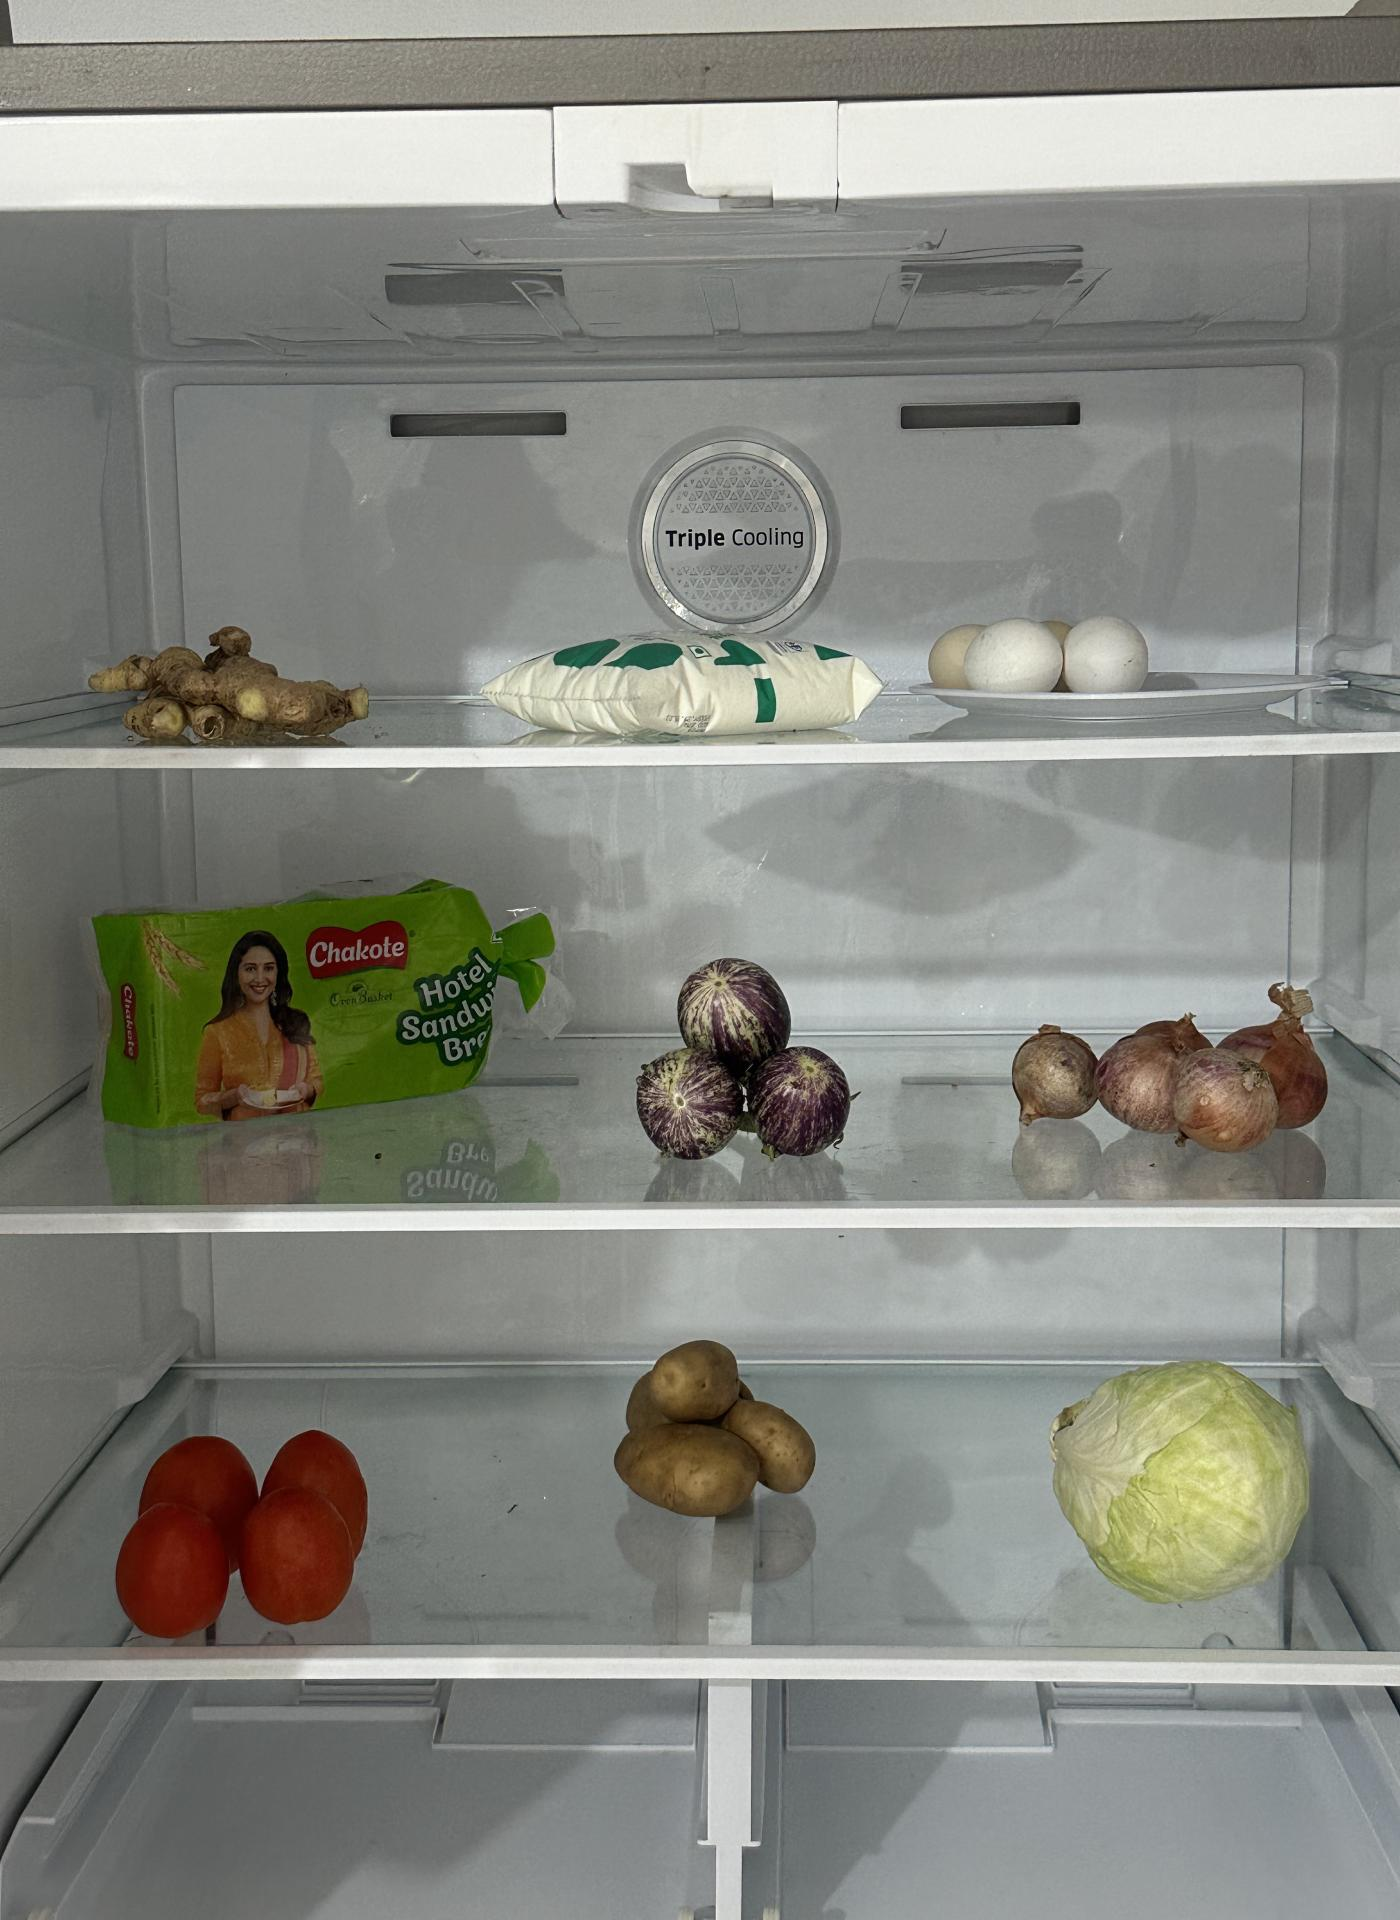bread: (83, 875, 510, 1120)
cabbage: (1053, 1358, 1305, 1595)
egg: (927, 611, 1151, 698)
ginger: (94, 626, 373, 742)
milk: (483, 629, 883, 735)
onion: (1009, 1005, 1327, 1149)
potato: (619, 1337, 816, 1519)
tomato: (115, 1431, 367, 1634)
